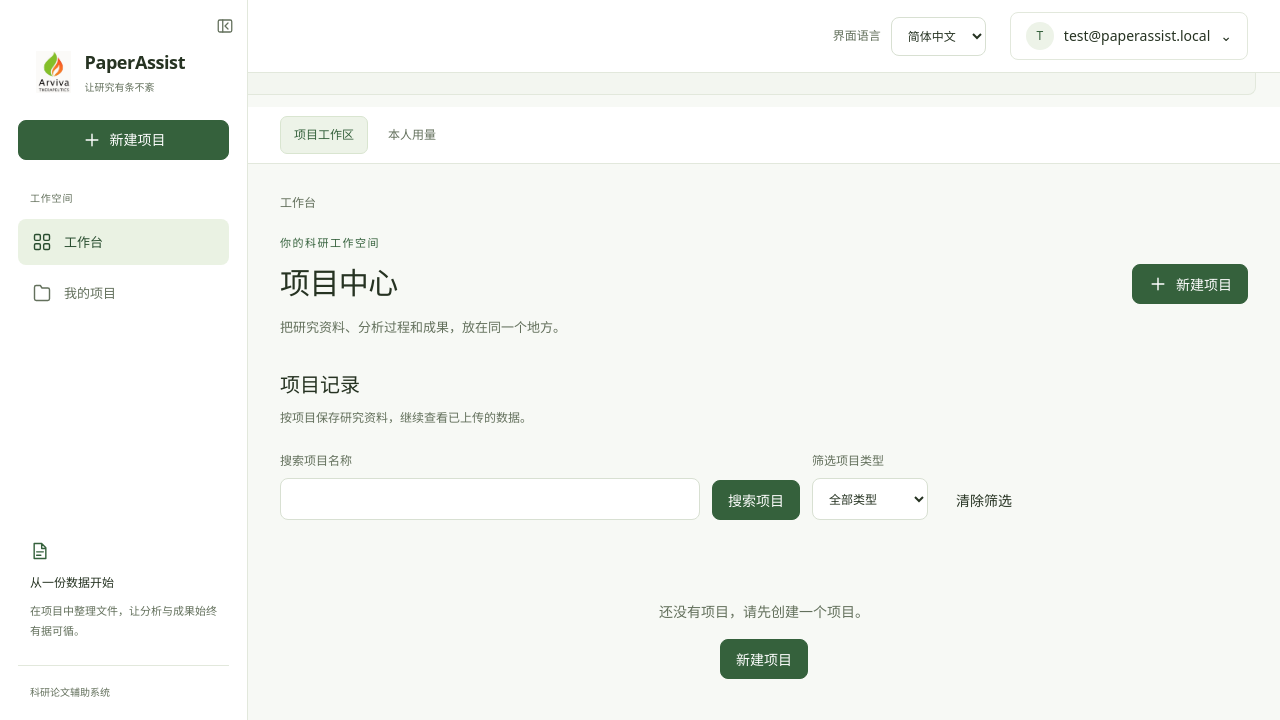
requires an explicit project type before creating
(page scrolled)
Expected: the text "还没有项目，请先创建一个项目。" is shown, 659,600 -> 869,623
Step 1. Click the button with aria-label "新建研究项目" → [124, 140], box 18,120 -> 229,160
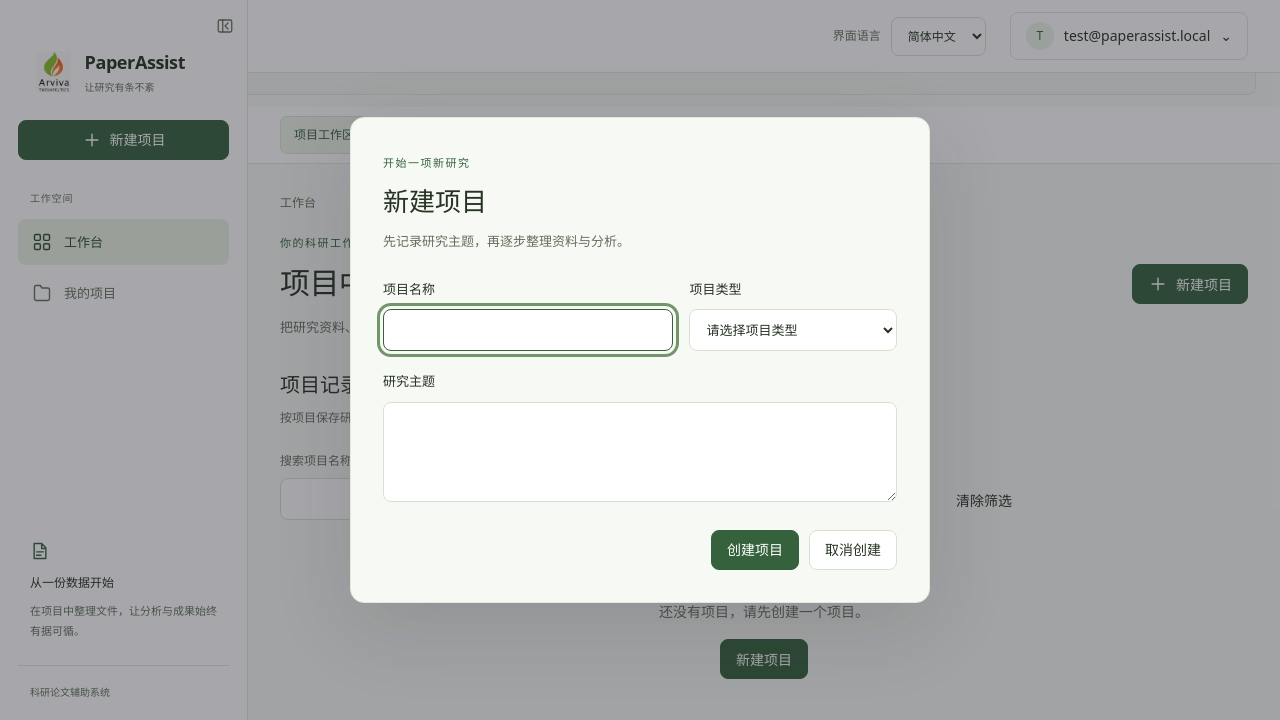
Result: the dropdown labelled "项目类型" shows "请选择项目类型" at 690,309 -> 897,351
Step 2. Type "新项目" into the field labelled "项目名称" → [528, 330], box 383,309 -> 674,351
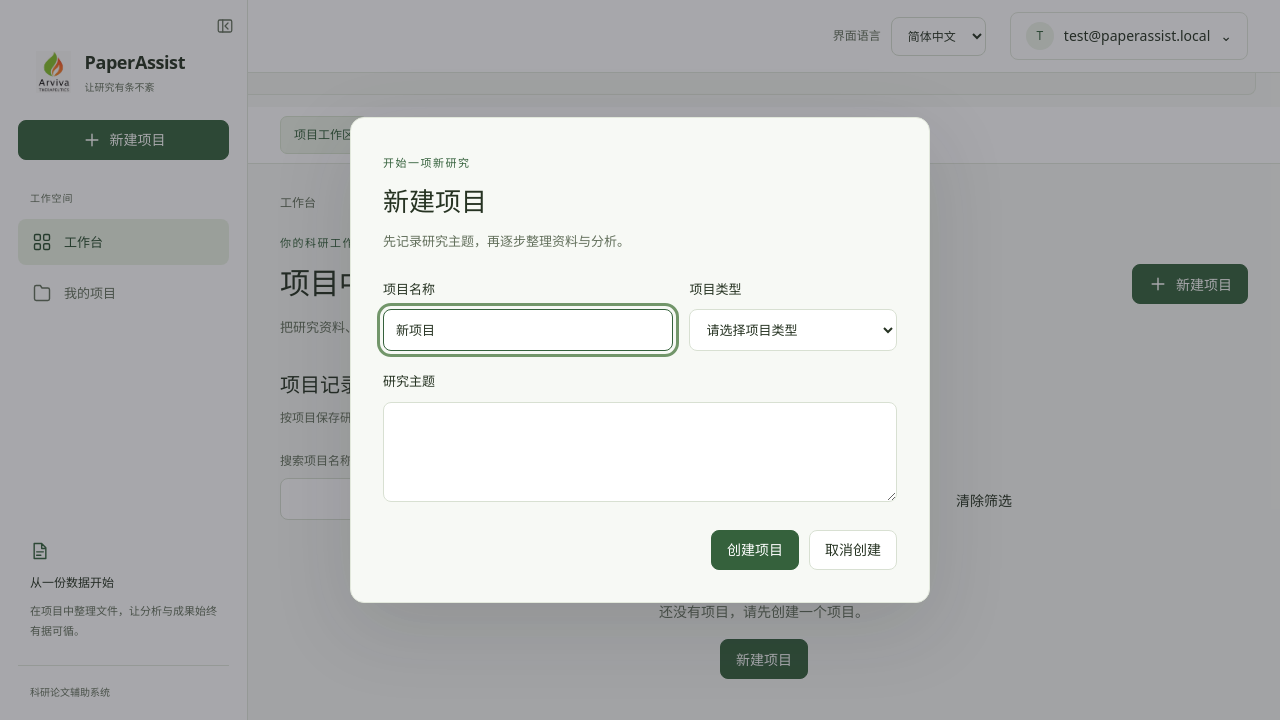
Step 3. Type "新主题" into the text box labelled "研究主题" → [640, 452], box 383,402 -> 897,502
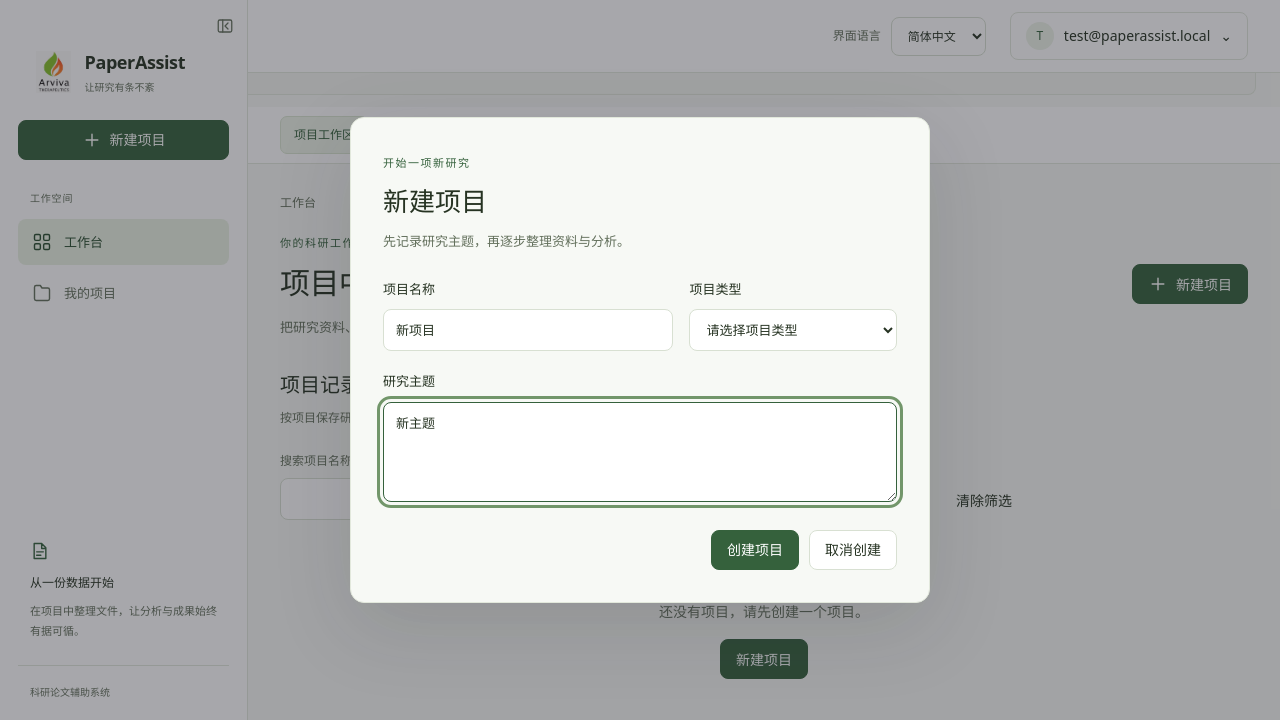
Step 4. Submit the form labelled "项目名称", box 383,279 -> 897,570
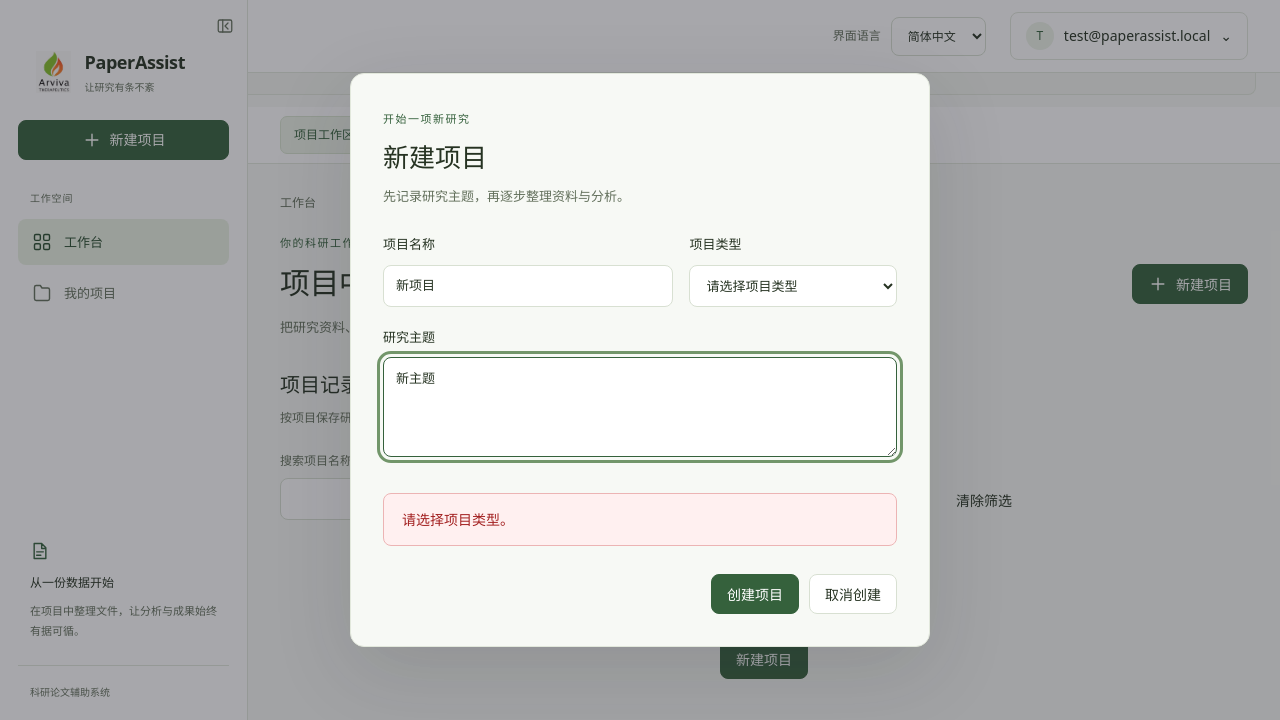
Result: the message shows "请选择项目类型" at 402,510 -> 514,529
